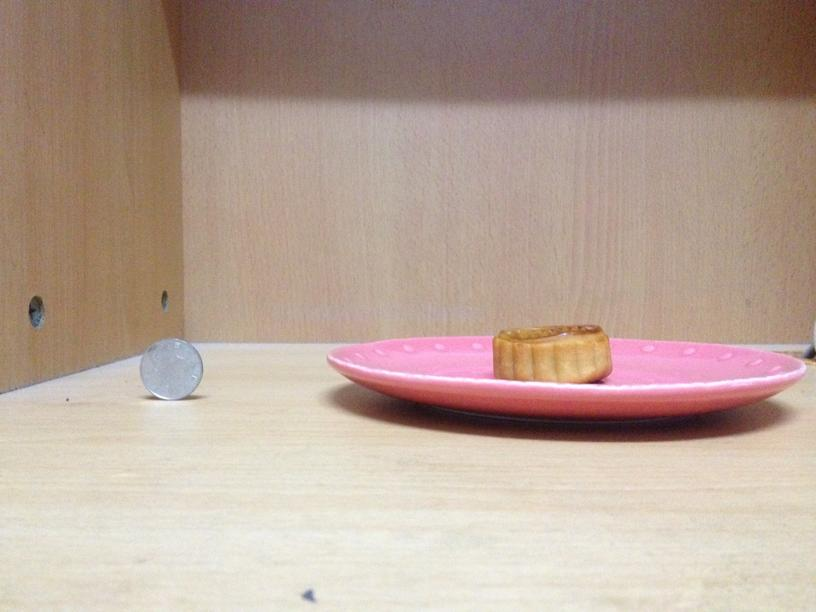coin: (136, 338, 205, 398)
mooncake: (490, 319, 613, 380)
